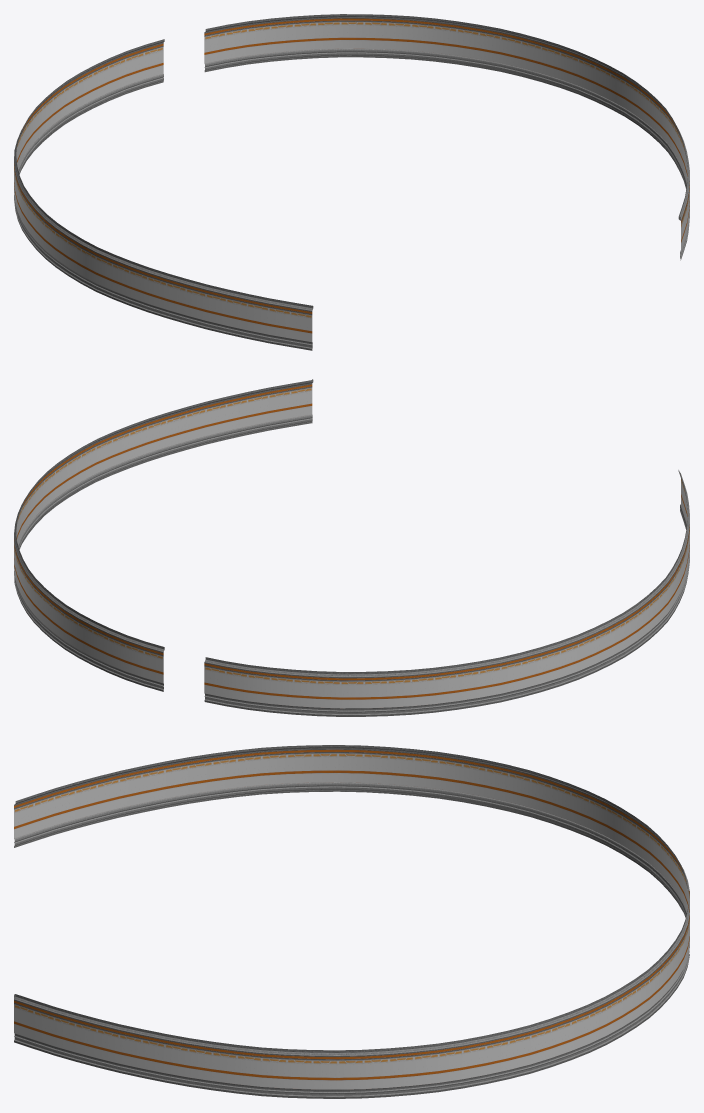
File: GroundWalls.fbx
3 views of the same model, one above another, from view 1: azimuth 30°, elevation 25°; view 2: azimuth 150°, elevation 25°; view 3: azimuth 270°, elevation 25° (orthographic). The views are drawn at different scales.
Visible parts, largest first — view 1: GroundWalls; view 2: GroundWalls; view 3: GroundWalls.
Part boxes in pixels (<box>): GroundWalls: <box>14,14,689,350</box>; GroundWalls: <box>14,379,689,716</box>; GroundWalls: <box>14,745,689,1098</box>.
Bounding box in the file's own units: 121 × 8.8 × 112.
